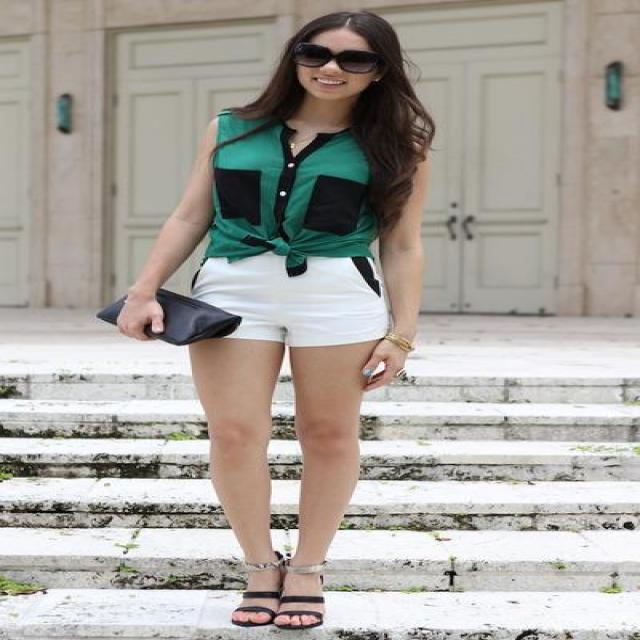bag: (96, 288, 240, 345)
shirt: (190, 115, 388, 276)
shorts: (198, 252, 388, 364)
sunglass: (280, 38, 374, 72)
